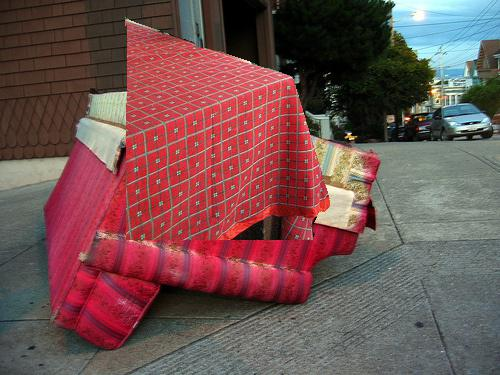tampered: (126, 18, 330, 240)
